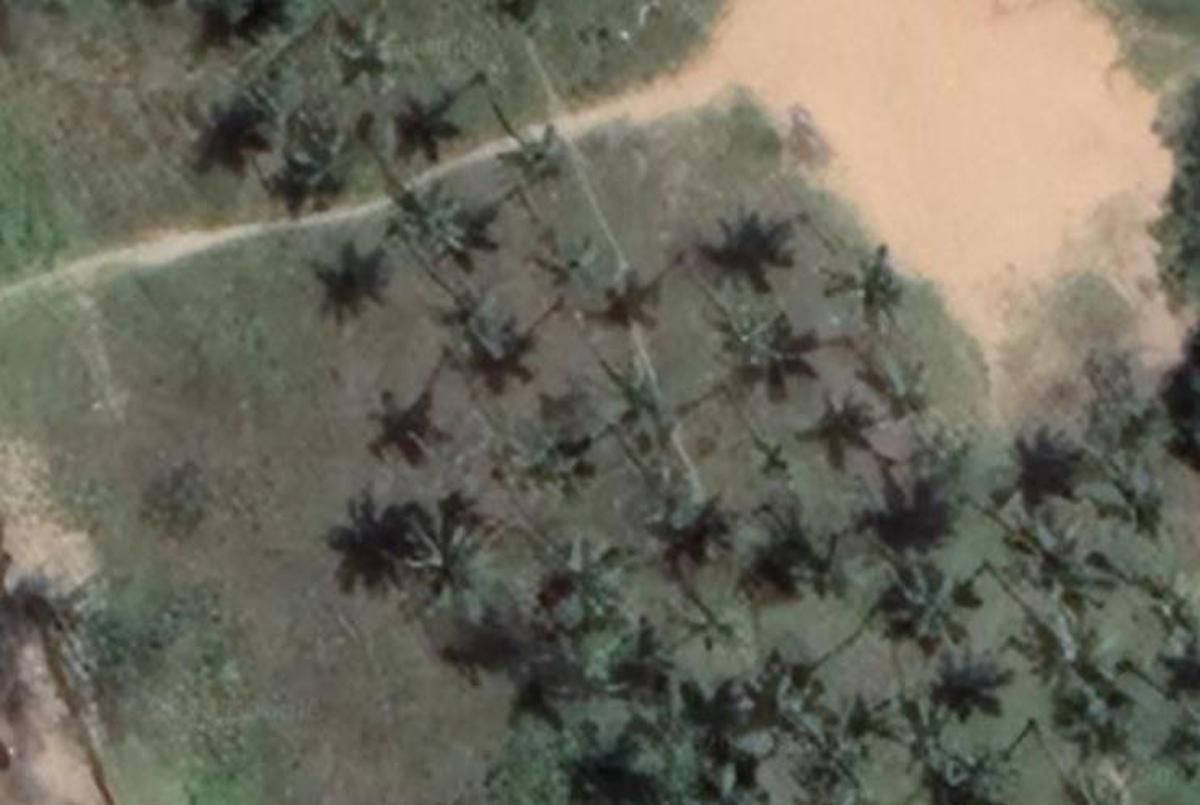coconut: (371, 514, 496, 627), (687, 257, 797, 368), (769, 502, 879, 611), (739, 646, 844, 754), (527, 601, 637, 704), (983, 502, 1093, 601), (1017, 586, 1117, 691), (1086, 433, 1185, 538), (612, 675, 716, 772), (883, 635, 973, 745), (498, 423, 601, 517), (813, 240, 912, 337), (1060, 662, 1156, 761), (640, 459, 734, 554), (870, 554, 963, 649), (538, 530, 633, 622), (388, 176, 481, 269), (265, 103, 359, 193), (325, 14, 420, 100), (598, 350, 692, 436), (496, 116, 582, 206), (918, 727, 1017, 805), (858, 350, 942, 439), (426, 282, 511, 360)
